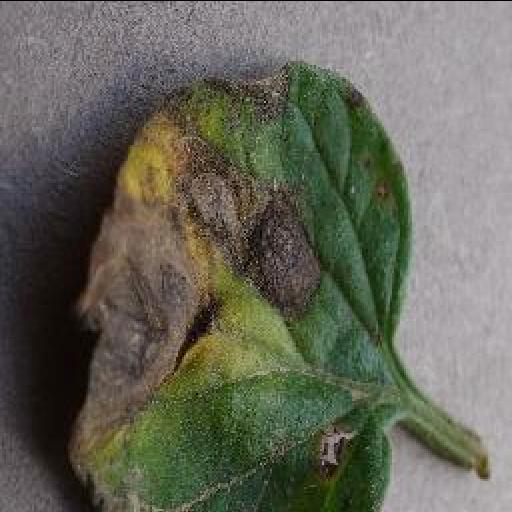disease_tomato: (68, 58, 412, 510)
